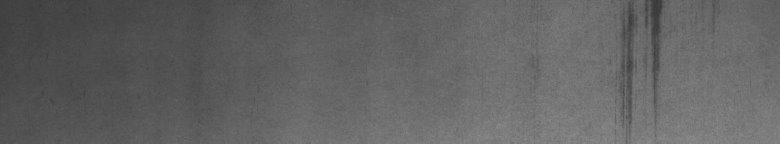ka: (620, 4, 667, 125)
